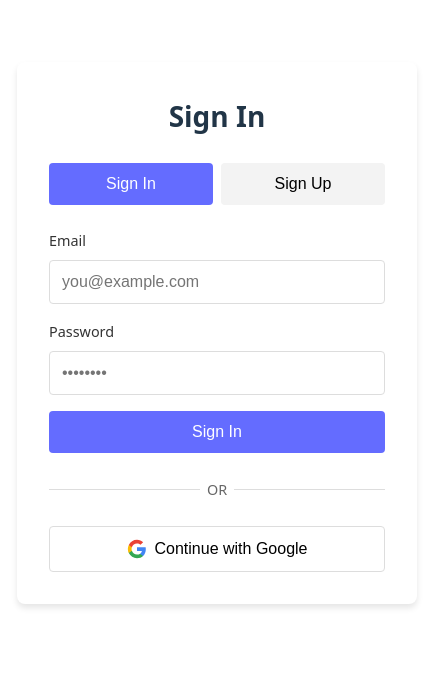
Scenario: LoginPage › validates empty email field
The image size is (435, 685).
Click the button "Sign In" at (217, 432), box [49, 411, 385, 453]
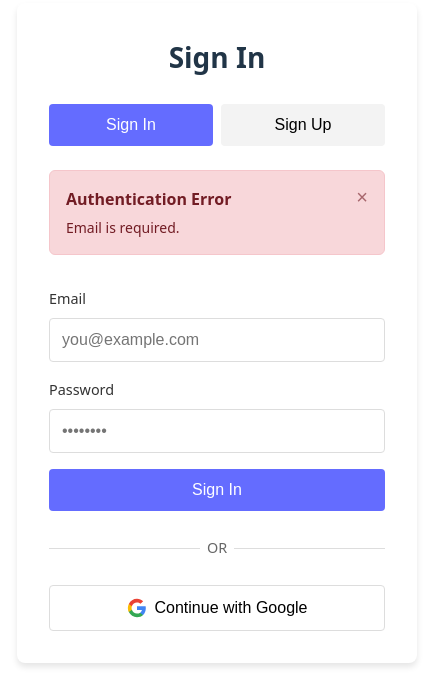
expect the text "Email is required." is shown: met, box [66, 218, 180, 237]
